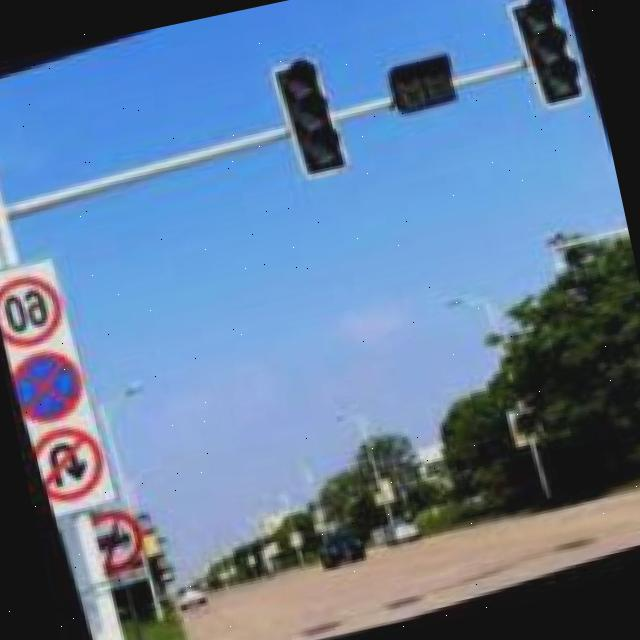green_light: (275, 57, 346, 180), (511, 0, 588, 113)
